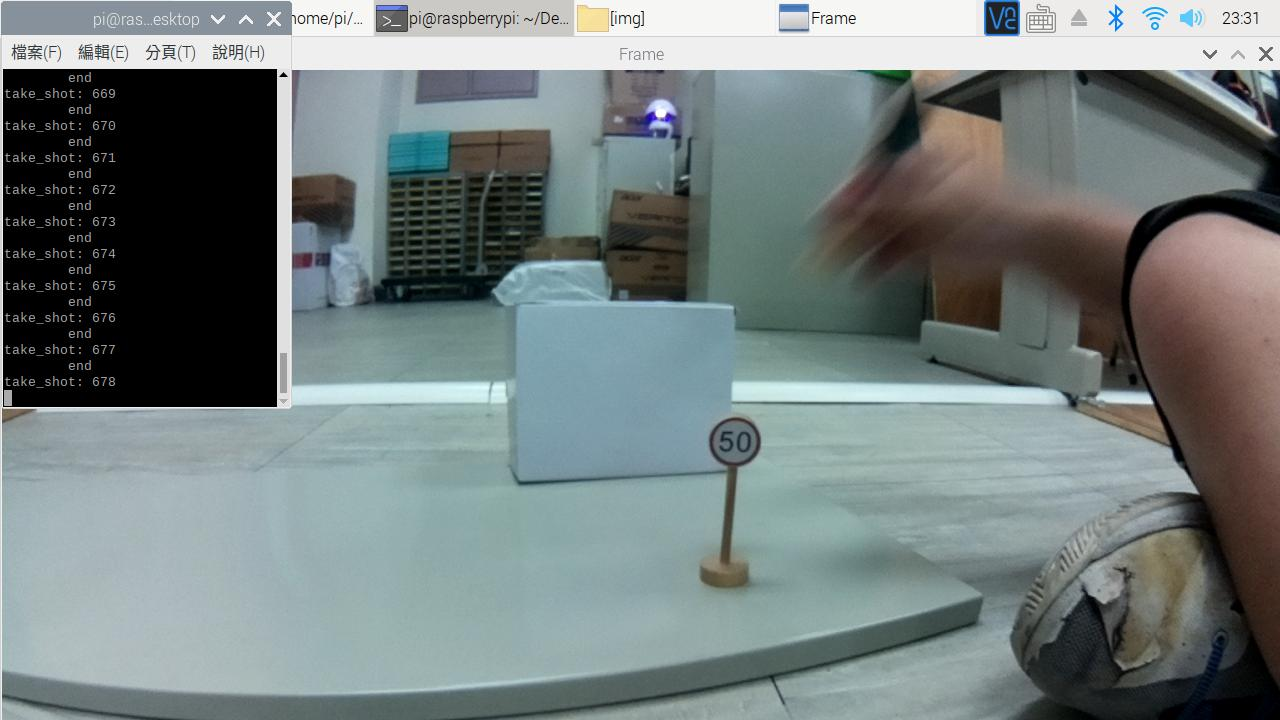Speed50: (699, 407, 781, 475)
